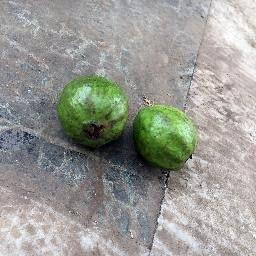guava: (59, 72, 129, 151), (132, 103, 197, 171)
